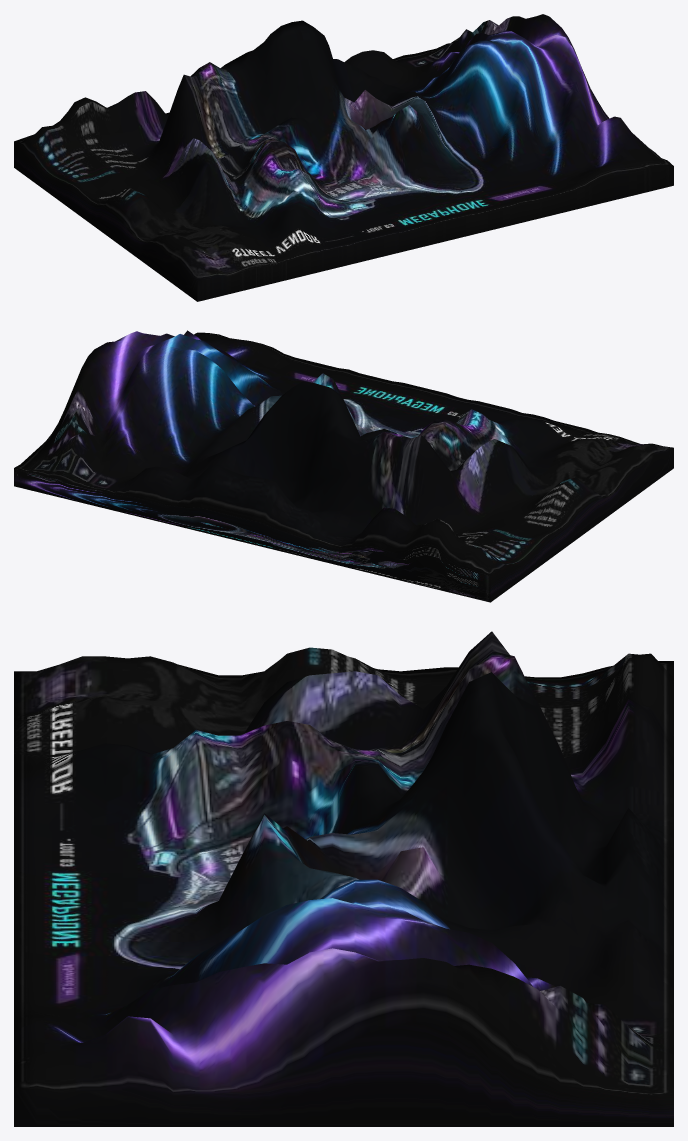
The model's file is CAREER_01_Tool_03_Megaphone.glb.
The picture shows the model from 3 angles, top to bottom: view 1: azimuth 30°, elevation 25°; view 2: azimuth 150°, elevation 25°; view 3: azimuth 270°, elevation 25°; orthographic projection. The views are drawn at different scales.
Parts seen in each view (by area): view 1: CAREER_01_Tool_03_Megaphone; view 2: CAREER_01_Tool_03_Megaphone; view 3: CAREER_01_Tool_03_Megaphone.
Boxes of the visible parts, box(x1,y1,x2,y2) form: CAREER_01_Tool_03_Megaphone: box(14, 14, 673, 301); CAREER_01_Tool_03_Megaphone: box(14, 330, 673, 602); CAREER_01_Tool_03_Megaphone: box(14, 631, 673, 1126).
Bounding box in the file's own units: 2 × 0.51 × 1.33.
Materials: 1 (1 with a texture image).
